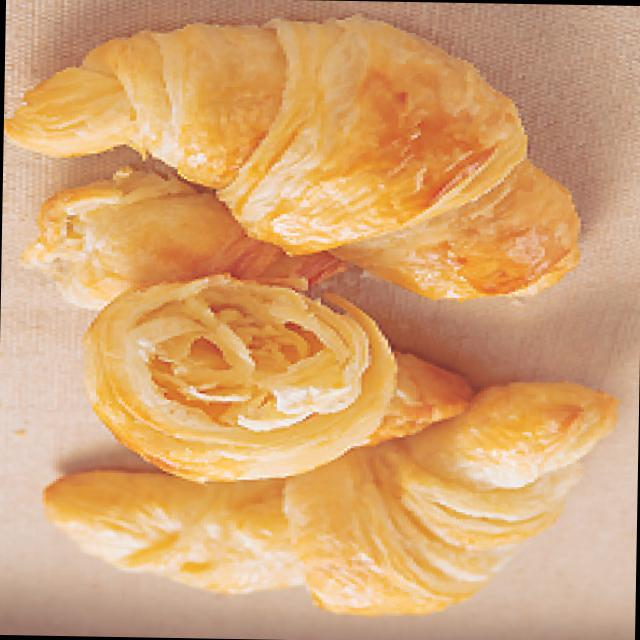Croissant: (0, 28, 616, 310)
